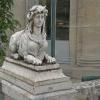Statue: (7, 2, 65, 79)
